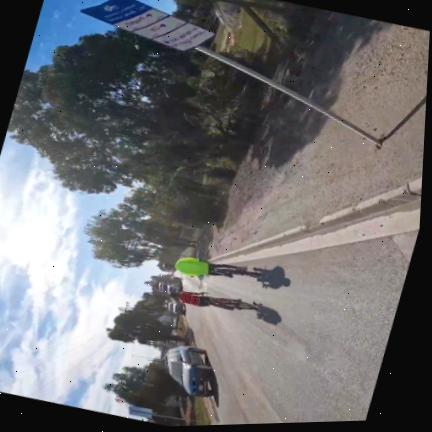Bike_Lane: (188, 230, 419, 425)
Bike_Sign: (80, 0, 214, 51)
